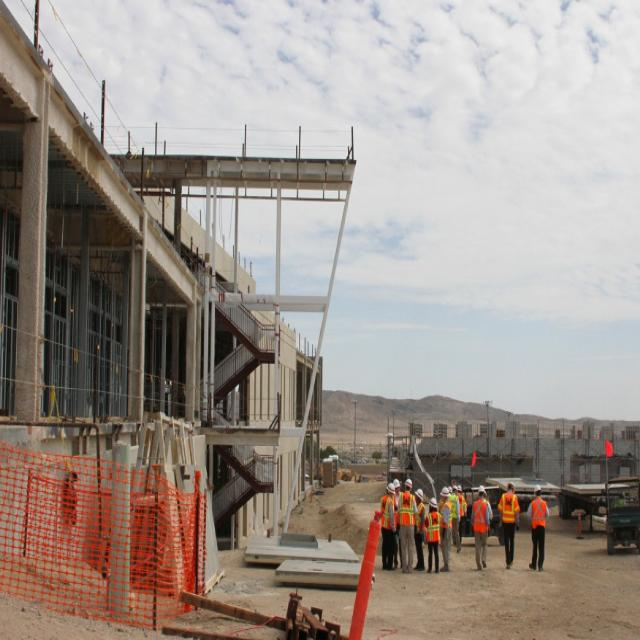body: (526, 483, 550, 573), (497, 480, 521, 570), (396, 478, 418, 575), (470, 483, 490, 572), (379, 482, 398, 571), (423, 495, 441, 573), (438, 486, 453, 573), (411, 487, 426, 572), (446, 484, 463, 554), (392, 478, 404, 571), (452, 483, 468, 550), (483, 490, 495, 520), (613, 490, 627, 507), (437, 496, 444, 508), (464, 495, 468, 511), (447, 481, 452, 493)
